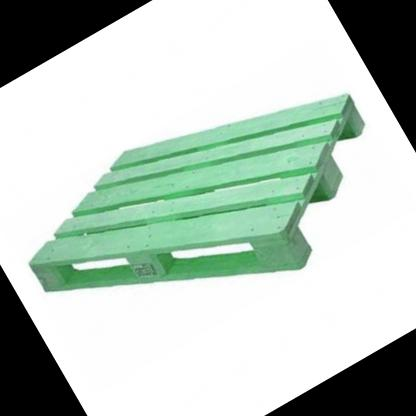BoxFace: (30, 91, 372, 294)
